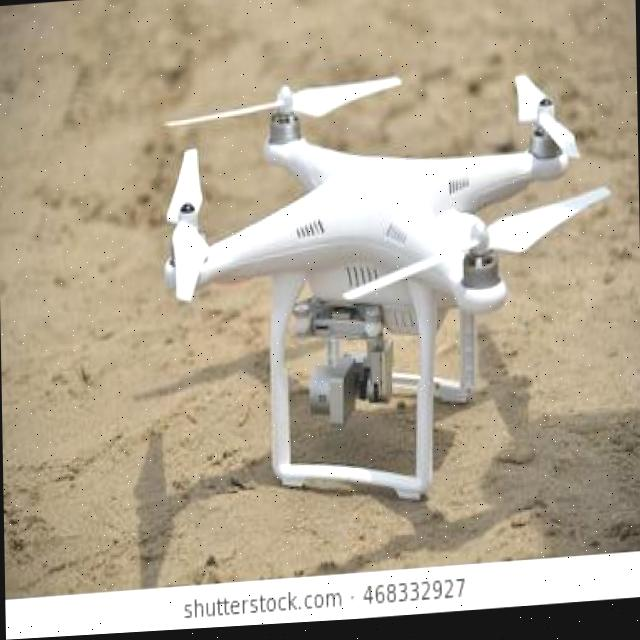drone: (137, 39, 640, 499)
